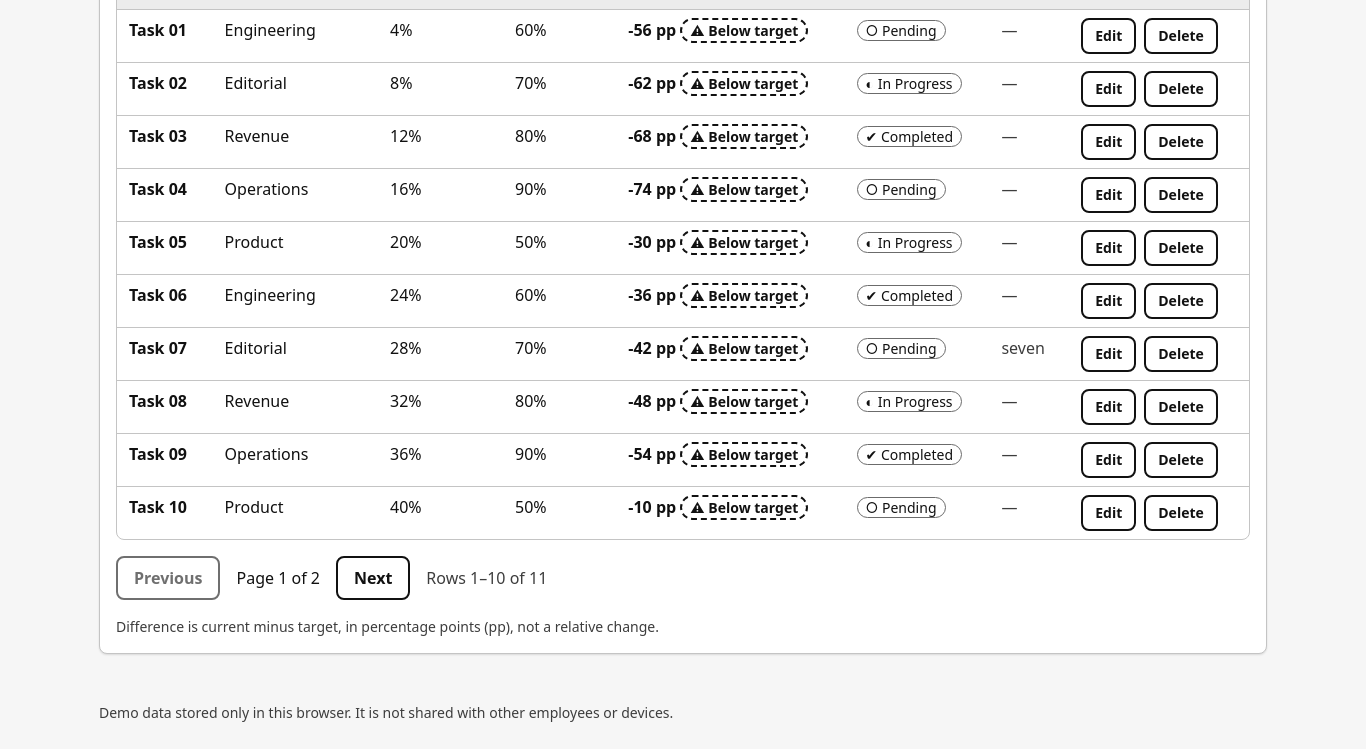
Test: pagination › after a delete leaves the current page empty, falls back to a valid page
(page scrolled)
Click the button "Next".
click(373, 578)  # box [336,556,410,600]
(page scrolled)
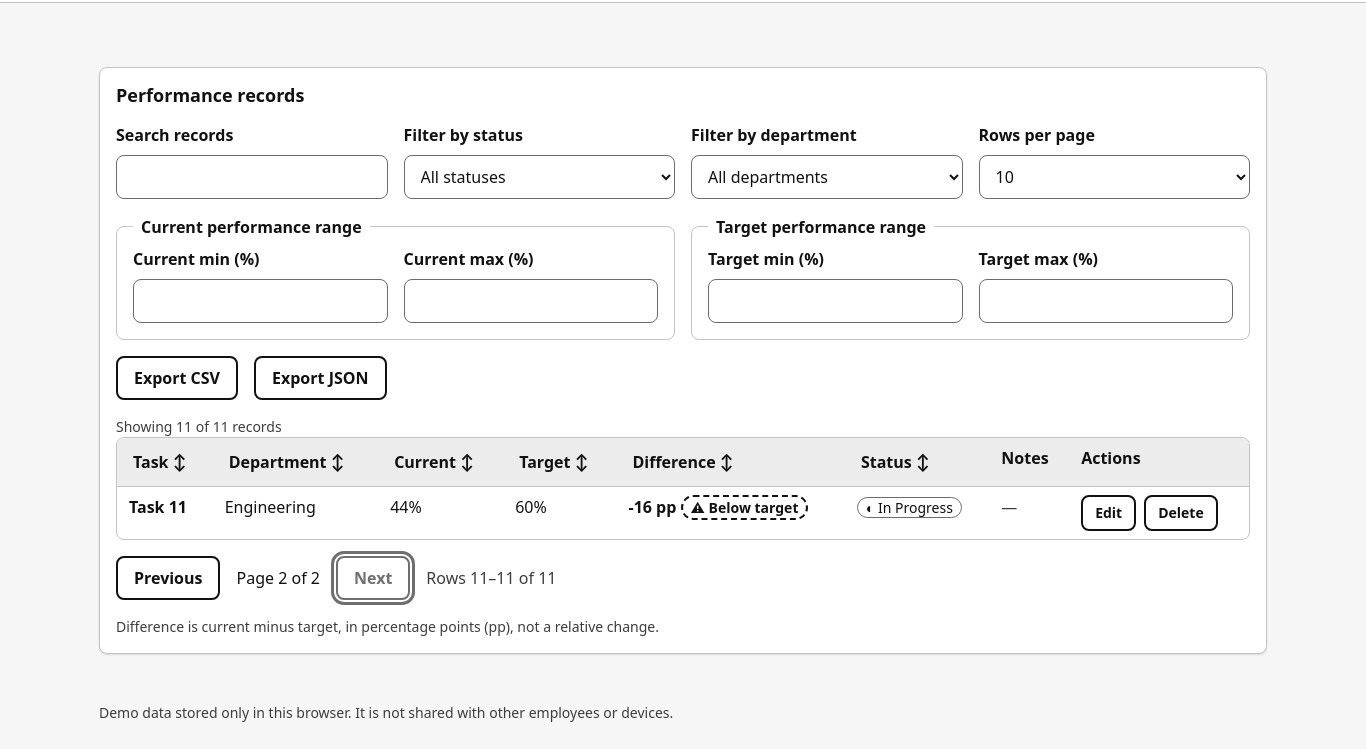
Click the button with aria-label "Delete Task 11".
click(1181, 512)  # box [1144,494,1218,530]
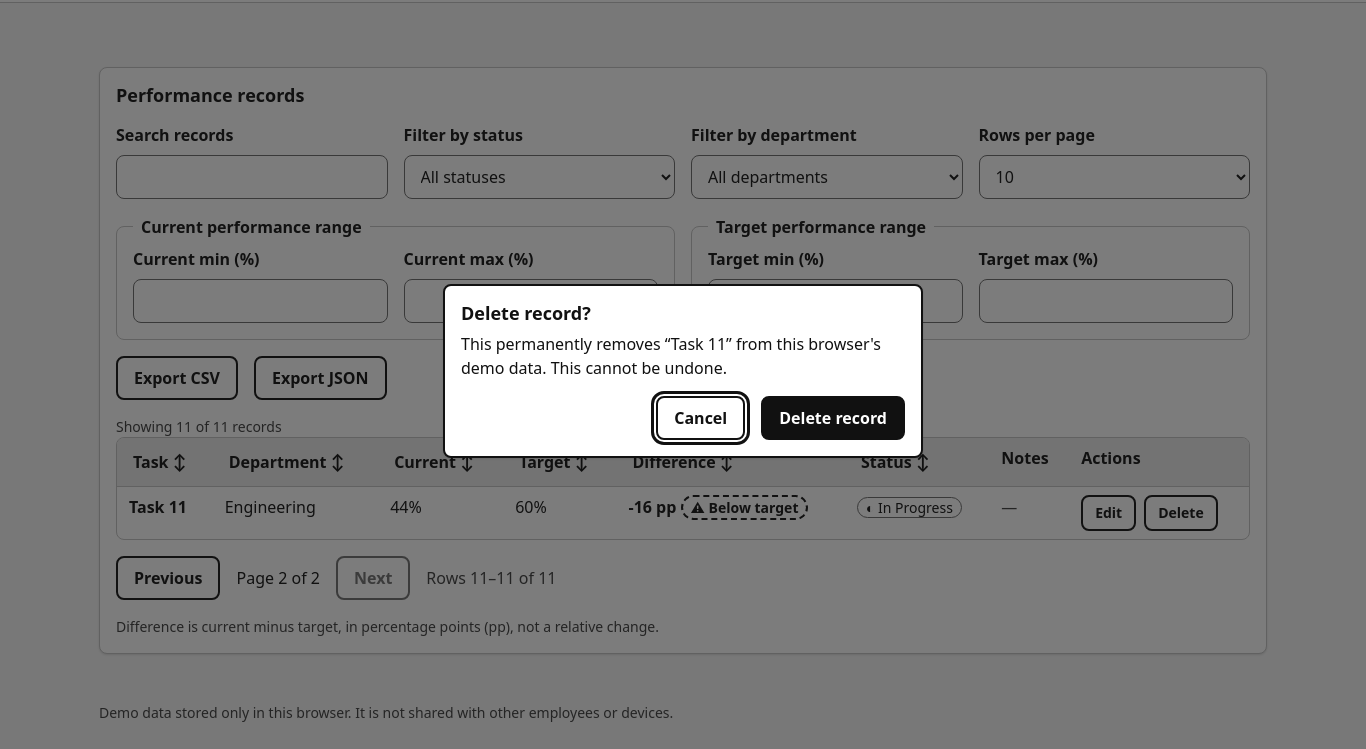
Click the button "Delete record".
click(833, 418)  # box [761,396,905,440]
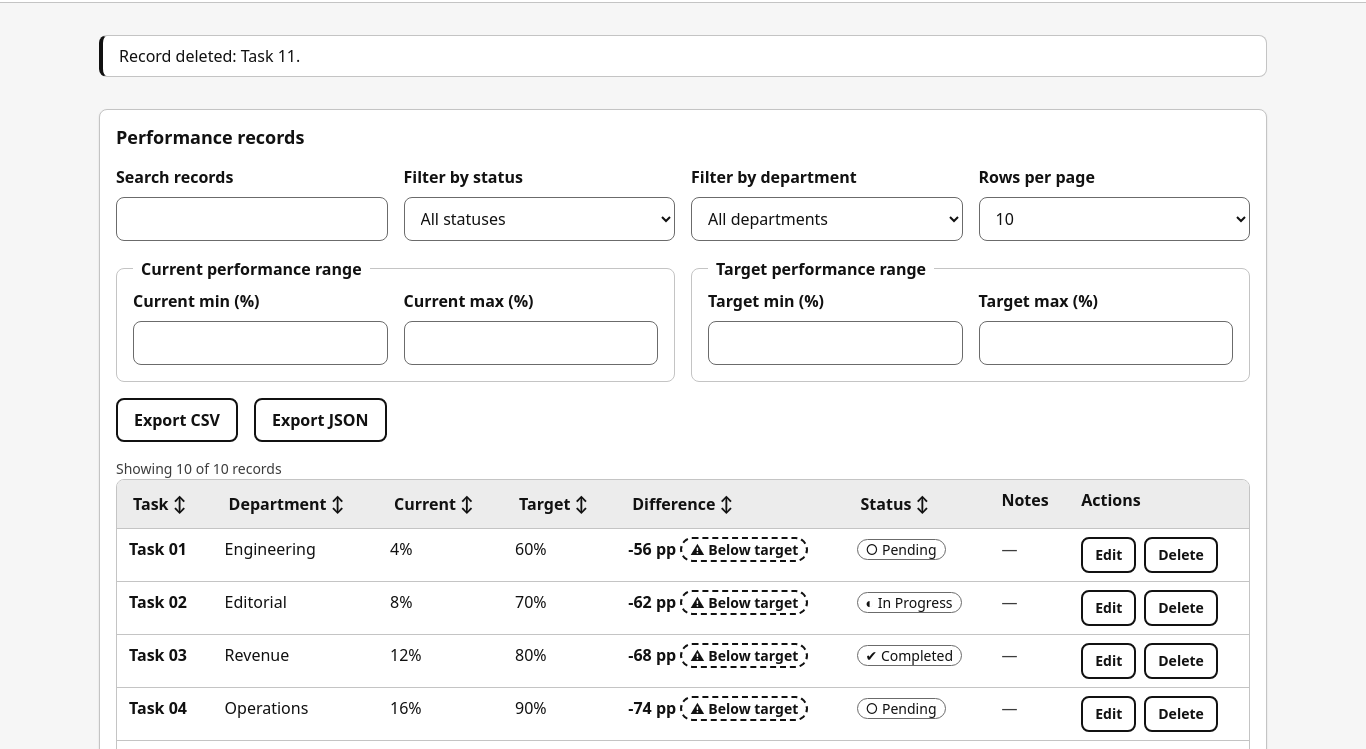
Now the text "Record deleted: Task 11." is shown, box [99,35,1267,77]
Now the navigation bar "pagination" is gone
